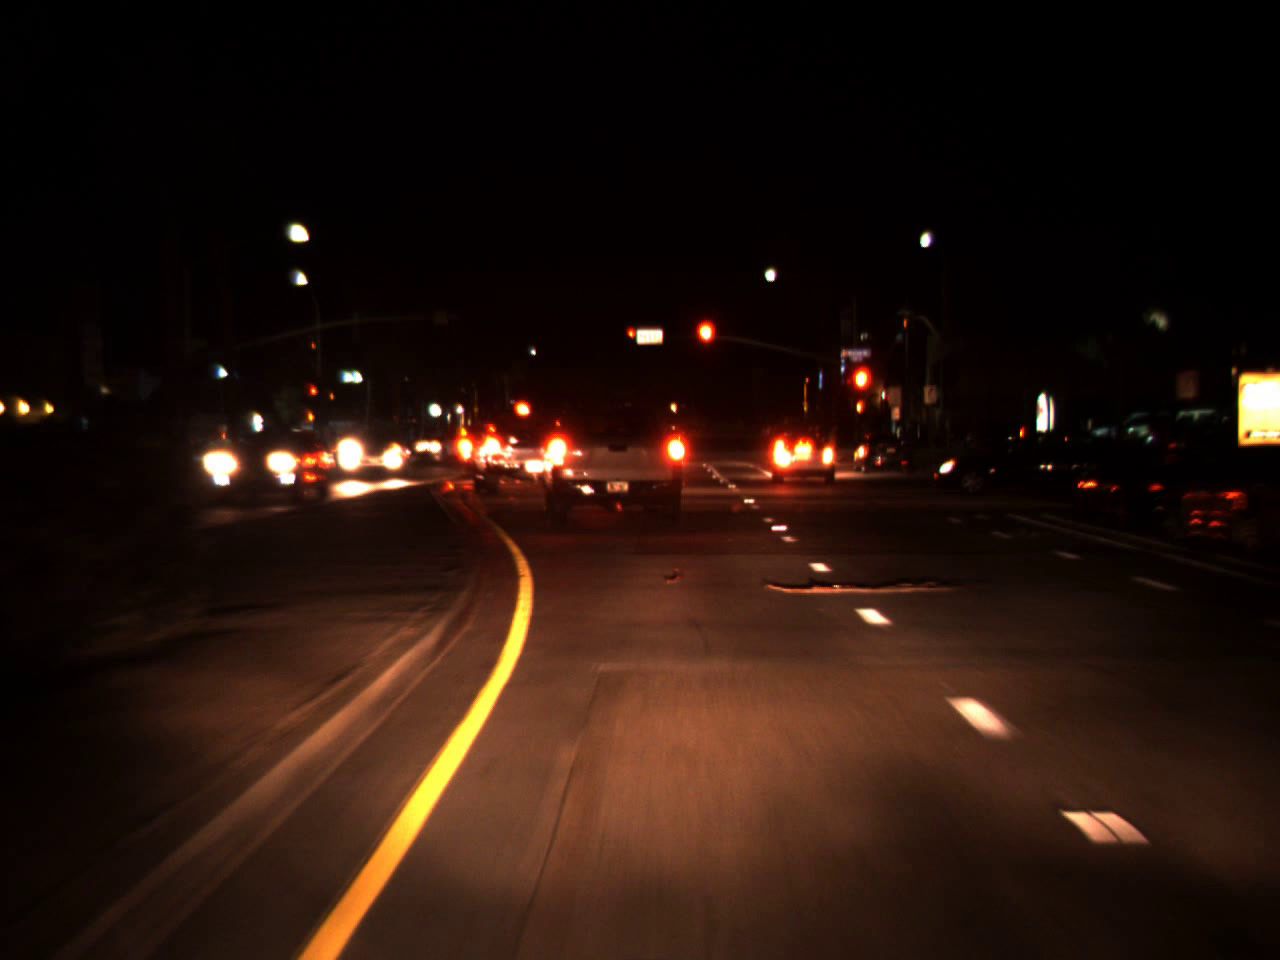stop: (848, 362, 875, 421), (692, 317, 719, 371), (626, 326, 638, 350), (308, 385, 317, 406)
